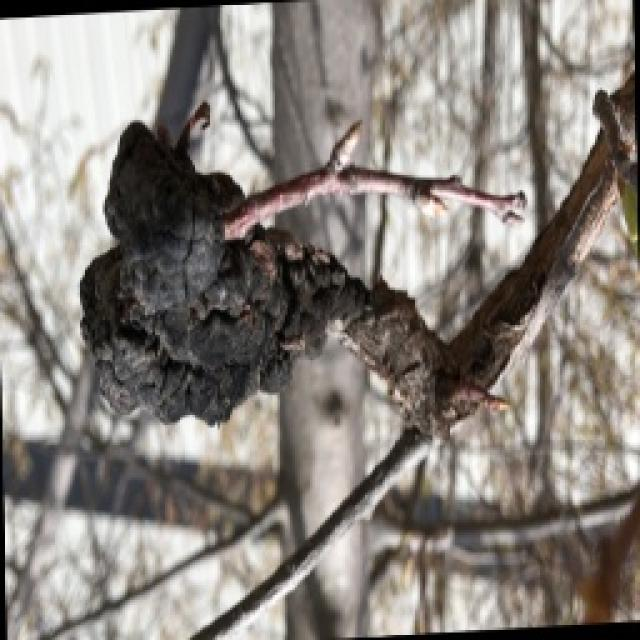Black_knot: (75, 100, 367, 428)
